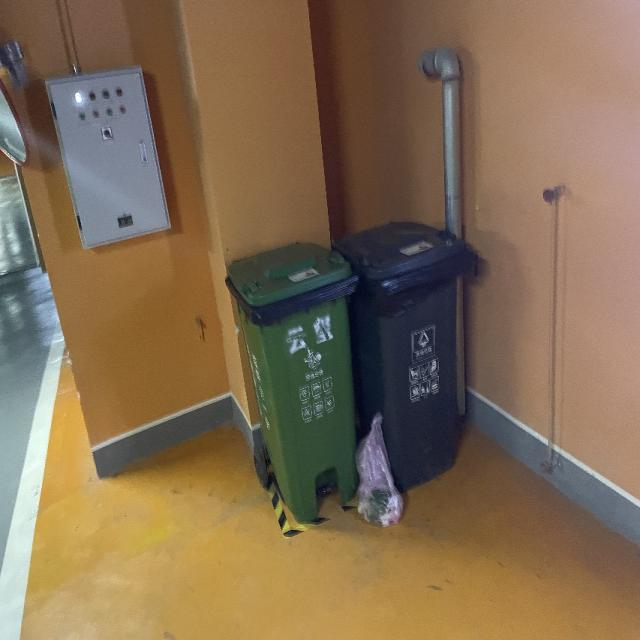garbage: (355, 411, 404, 526)
garbage_bin: (224, 240, 357, 524), (332, 219, 464, 493)
